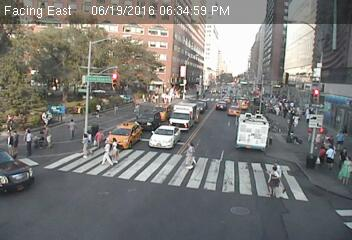neg: (180, 117, 192, 133), (189, 109, 199, 122), (201, 104, 211, 116), (204, 95, 210, 103)
pos: (332, 127, 351, 154), (63, 116, 82, 141)
